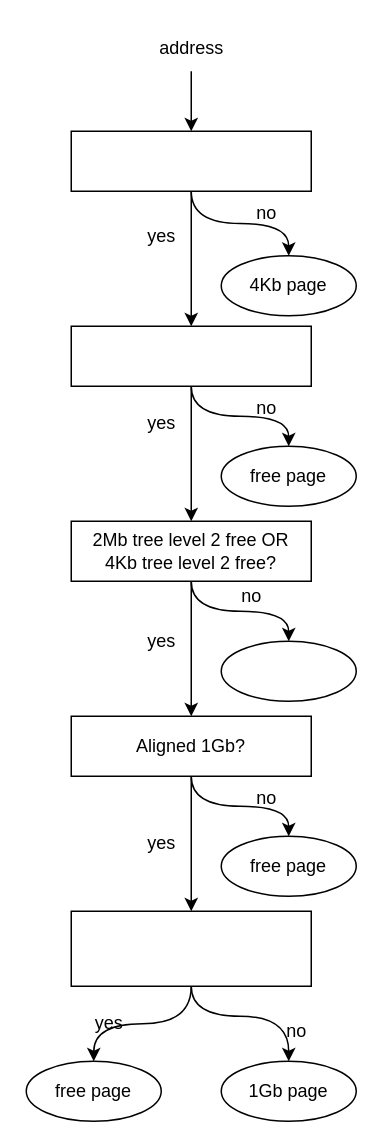
Some shapes in this 383 by 1148 pixel diagram are drawn without their labels. The shapes that lost their labels are listed below. From the top down, each one's centre as x and y in pixels, then its label:
At point (190, 160): "4Kb tree level 3 free?".
At point (190, 355): "Aligned 2Mb?".
At point (288, 670): "2Mb page".
At point (190, 948): "1Gb tree level 1 free OR 2Mb tree level 1 free OR 4Kb tree level 1 free?".
